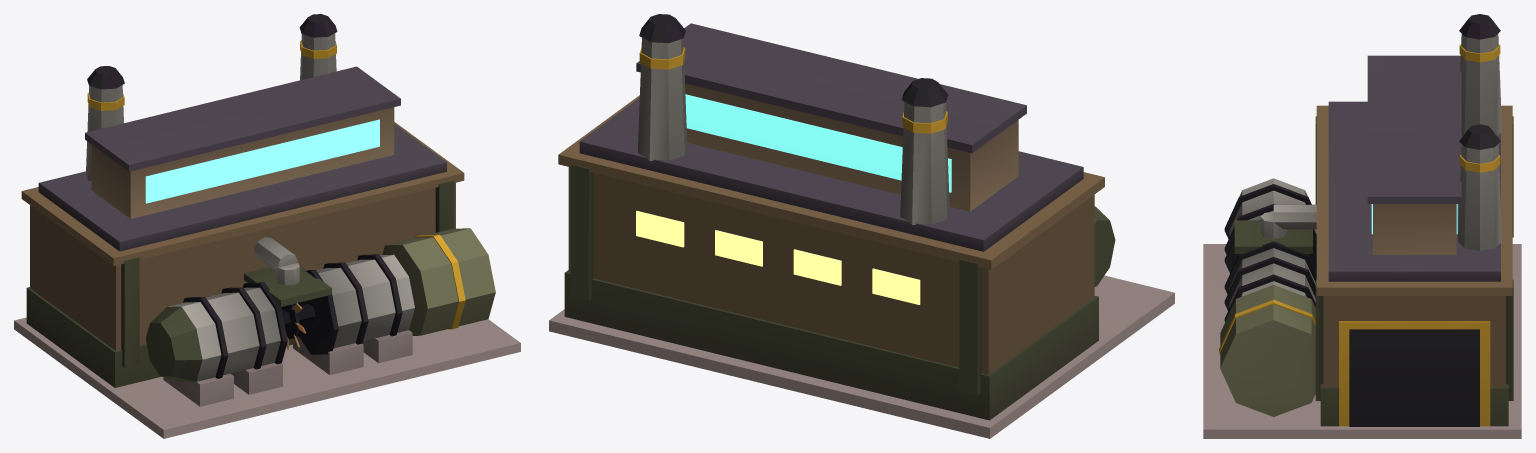
Rendered from kit.dispersal-turbine-hall.lod2.glb.
The picture shows the model from 3 angles, left to right: view 1: azimuth 30°, elevation 25°; view 2: azimuth 150°, elevation 25°; view 3: azimuth 270°, elevation 25°; orthographic projection. The views are drawn at different scales.
Visible parts, largest first — view 1: body, object 1; view 2: body; view 3: body.
Part boxes in pixels (x1=…): body: x1=14, y1=14, x2=520, y2=438; object 1: x1=281, y1=303, x2=315, y2=349; body: x1=549, y1=14, x2=1174, y2=438; body: x1=1203, y1=14, x2=1521, y2=438.
Size of the model in its own units: 16.8 by 11.5 by 12.2.
